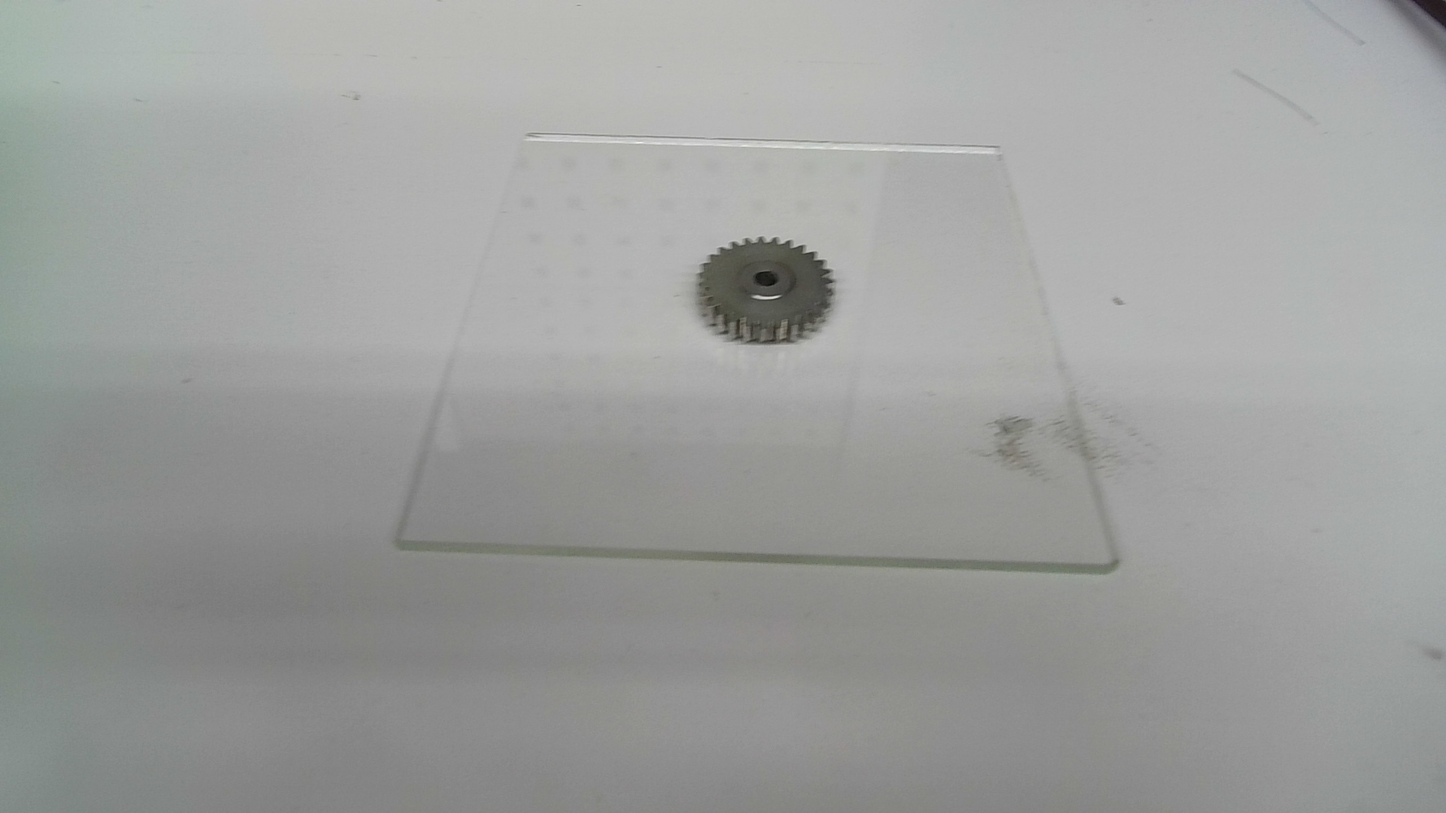gear: (694, 234, 838, 346)
